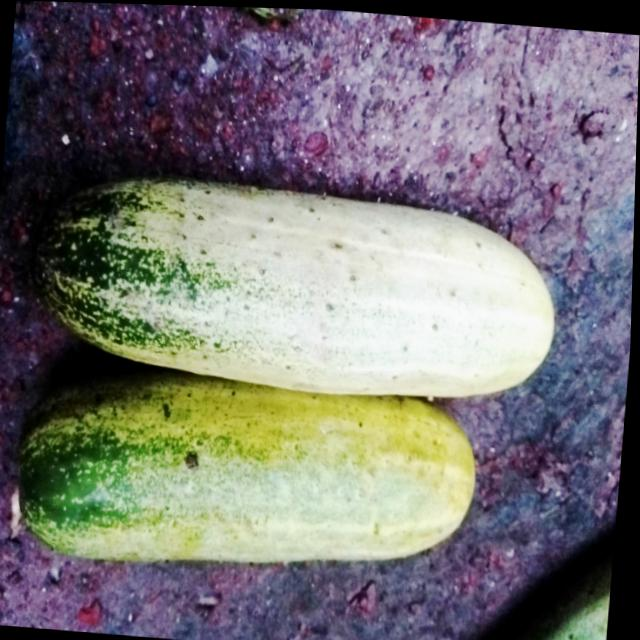Fresh-Cucumber: (32, 165, 569, 413), (11, 363, 489, 594)
